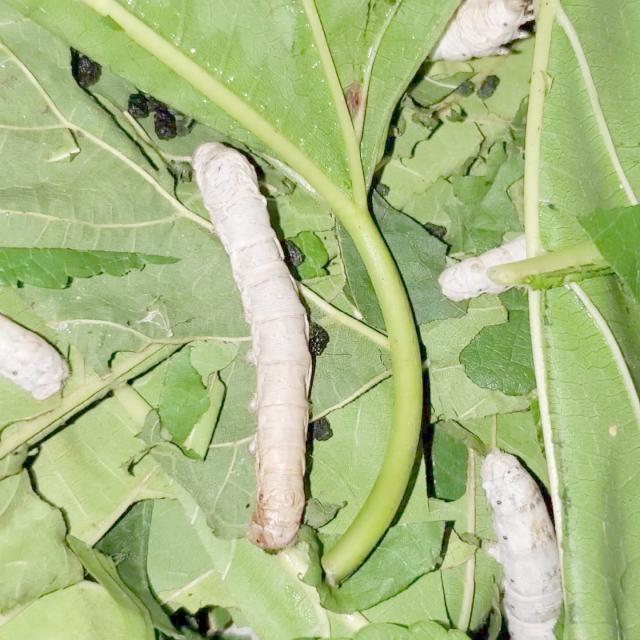Grasserie: (163, 126, 381, 568)
